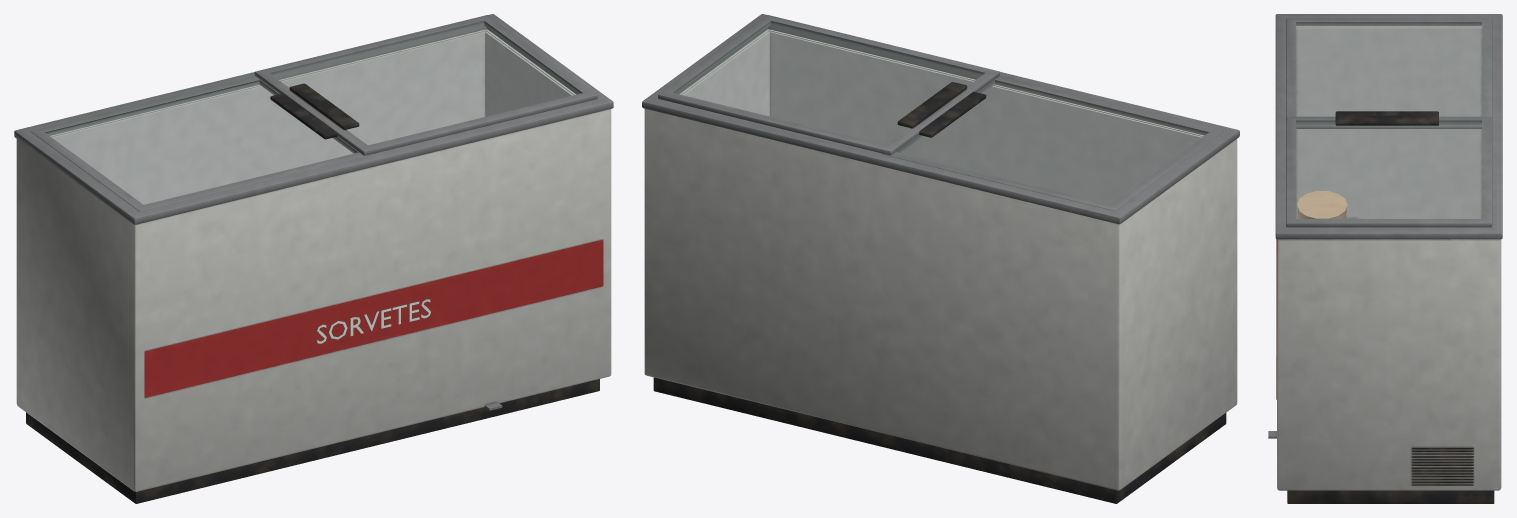
File: freezer_horizontal.glb
3 views of the same model, side by side, from view 1: azimuth 30°, elevation 25°; view 2: azimuth 150°, elevation 25°; view 3: azimuth 270°, elevation 25° (orthographic). The views are drawn at different scales.
Visible parts, largest first — view 1: freezer, vidro_tampa_esq, vidro_tampa_dir, tampa_dir, tampa_esq; view 2: freezer, vidro_tampa_esq, vidro_tampa_dir, tampa_dir, tampa_esq; view 3: freezer, vidro_tampa_dir, vidro_tampa_esq, tampa_dir, tampa_esq.
Part boxes in pixels (box(x1,y1,x2,y2)): freezer: box(14, 14, 613, 503); vidro_tampa_esq: box(49, 83, 354, 203); vidro_tampa_dir: box(273, 24, 578, 144); tampa_dir: box(254, 15, 597, 155); tampa_esq: box(30, 76, 372, 211); freezer: box(642, 14, 1239, 503); vidro_tampa_esq: box(900, 83, 1205, 203); vidro_tampa_dir: box(677, 24, 982, 144); tampa_dir: box(658, 15, 999, 155); tampa_esq: box(882, 76, 1223, 210); freezer: box(1268, 14, 1502, 503); vidro_tampa_dir: box(1297, 123, 1481, 218); vidro_tampa_esq: box(1297, 24, 1481, 115); tampa_dir: box(1286, 115, 1492, 227); tampa_esq: box(1286, 18, 1492, 128).
Bounding box in the file's own units: 1.51 × 0.906 × 0.679.
4 materials, 2 textured.
